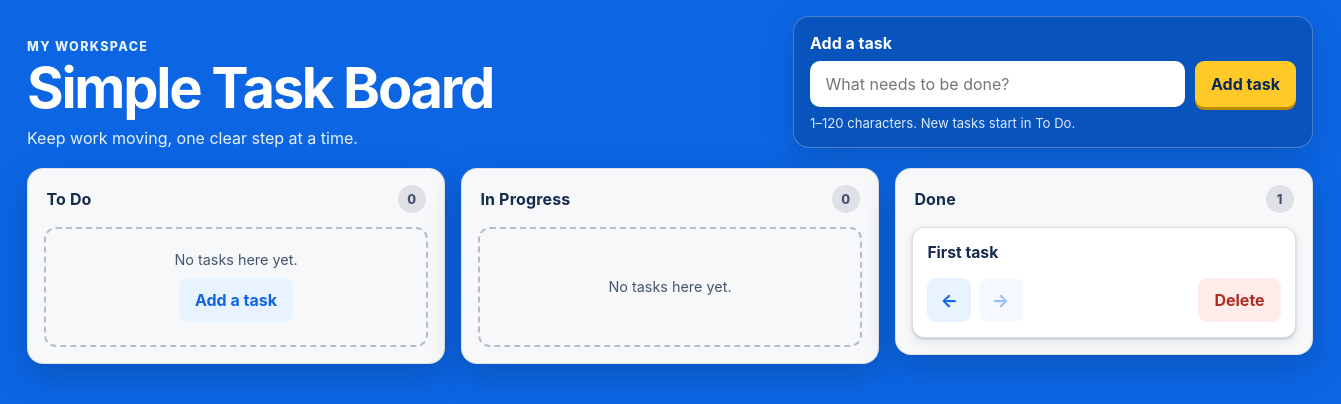
Test: task board UI › focuses the title input when the emptied done column has no action
The image size is (1341, 404).
Click the button "Delete" at (1240, 300), box 1198,278 -> 1281,322
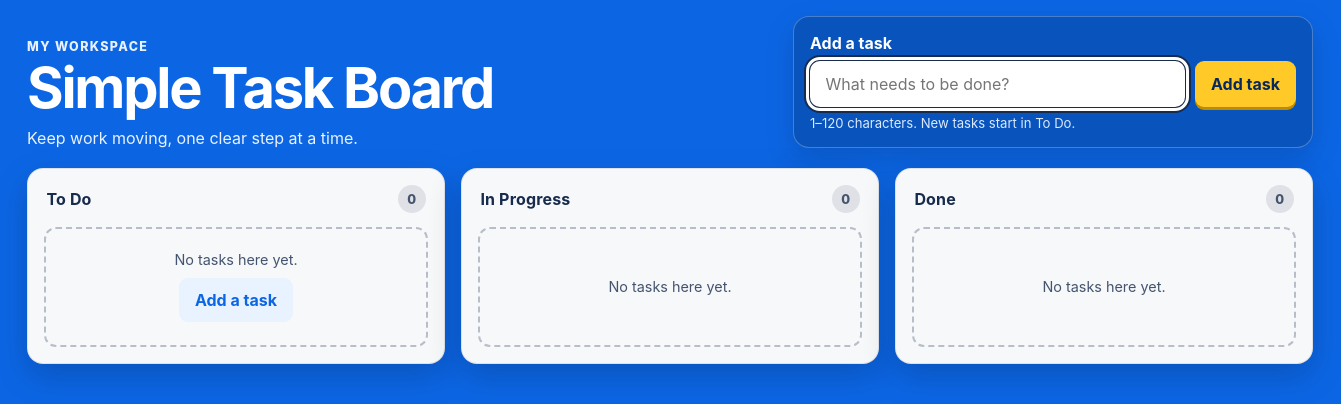
expect the text "No tasks here yet." below "Done" is shown: met, box 1042,278 -> 1166,295
